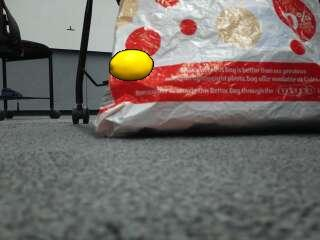lemon: (111, 51, 153, 81)
